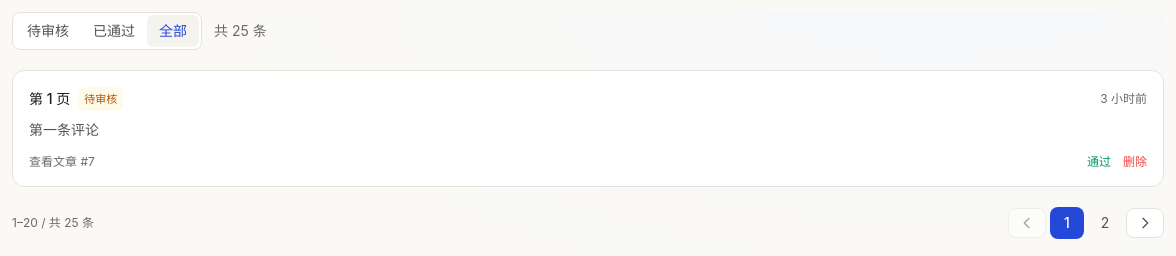
Scenario: CommentListView · 筛选与分页 › 分页器按接口返回的 total / page_size 渲染，翻页把页码带进请求
What coordinates should you click on to do the following:
click the button named "下一页"
I would click on:
 (1145, 223)
Its box is [1126,208,1164,238].
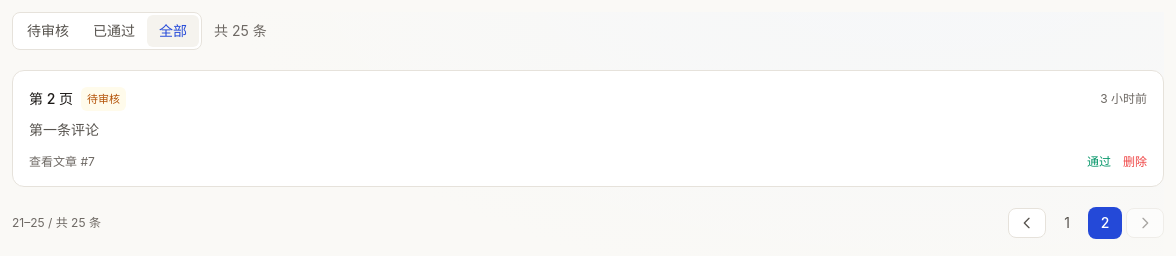
Expected: the list item "第 2 页 待审核 3 小时前 第一条评论 查看文章 #7 通过 删除" is shown, [12,70,1164,187]
Expected: the text "21–25 / 共 25 条" is shown, [12,215,101,231]
